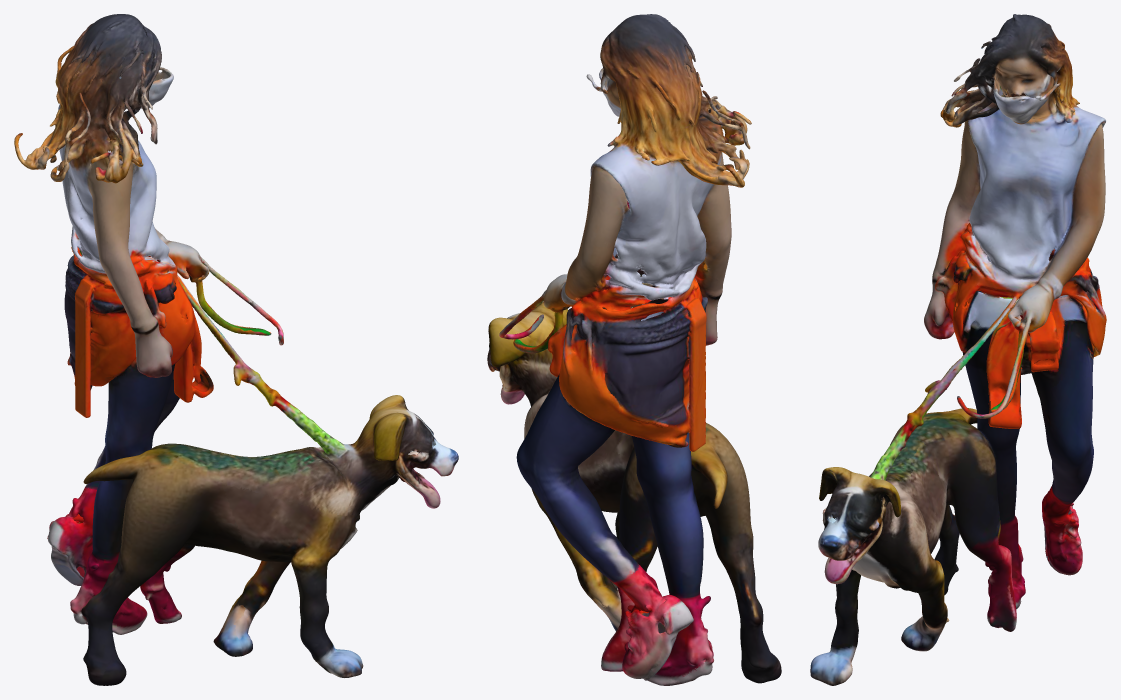
The model's file is AMO1.fbx.
3 views of the same model, side by side, from view 1: azimuth 30°, elevation 25°; view 2: azimuth 150°, elevation 25°; view 3: azimuth 270°, elevation 25° (orthographic). The views are drawn at different scales.
Visible parts, largest first — view 1: tripo_node_aaa8e24e; view 2: tripo_node_aaa8e24e; view 3: tripo_node_aaa8e24e.
Boxes of the visible parts, x1,y1,x2,y2 form: tripo_node_aaa8e24e: (14,14,458,685); tripo_node_aaa8e24e: (487,14,781,685); tripo_node_aaa8e24e: (810,14,1106,685).
Bounding box in the file's own units: 56.6 × 100 × 44.63.
Materials: 1 (1 with a texture image).
